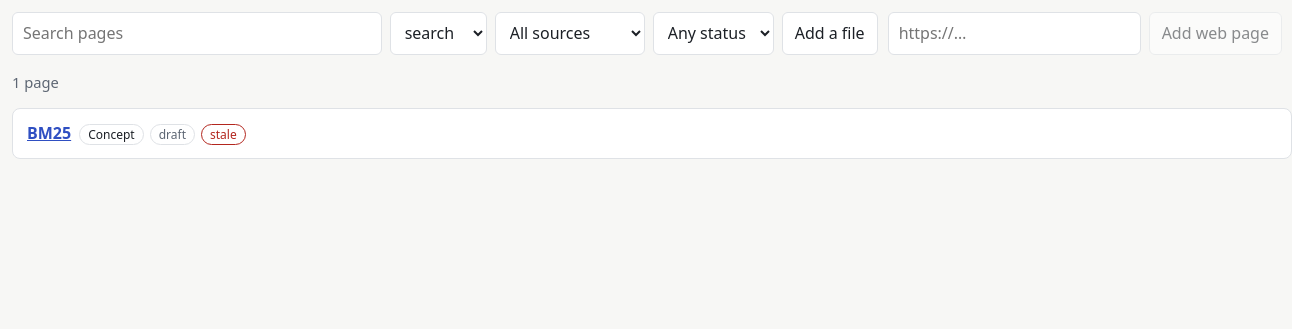
filters by tag
Expected: the text "1 page" is shown, [12,72,59,92]
Select "All tags" in the dropdown named "Filter by tag". click: (438, 33)
box: [390,12,487,55]
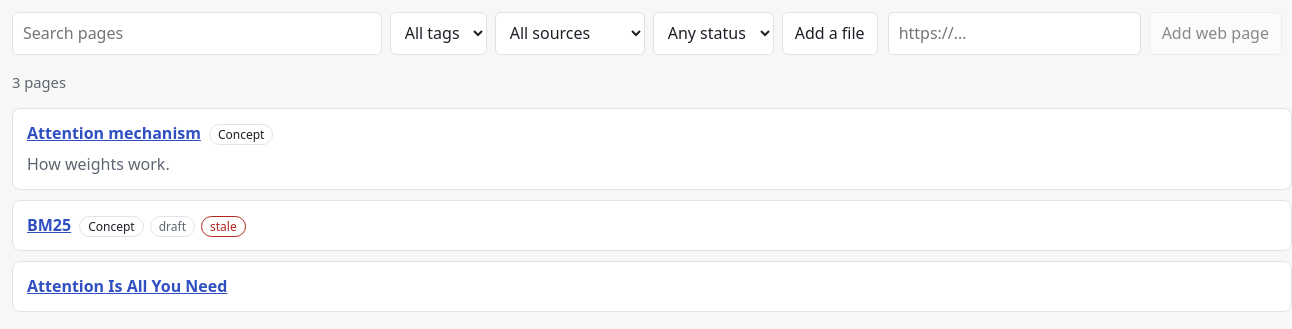
Now the text "3 pages" is shown, box [12,72,66,92]
